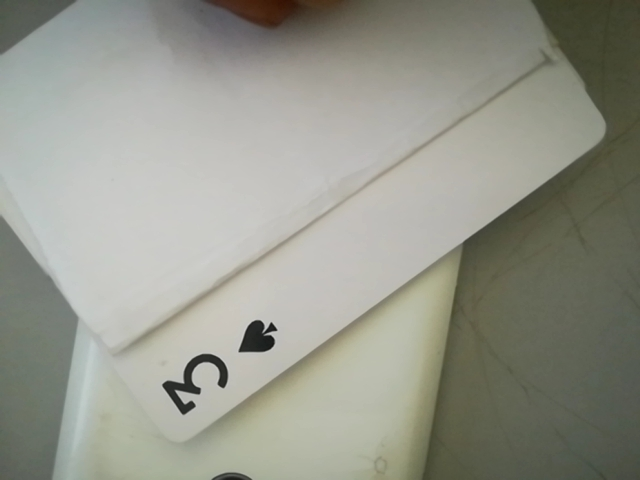ht 3: (132, 307, 290, 434)
